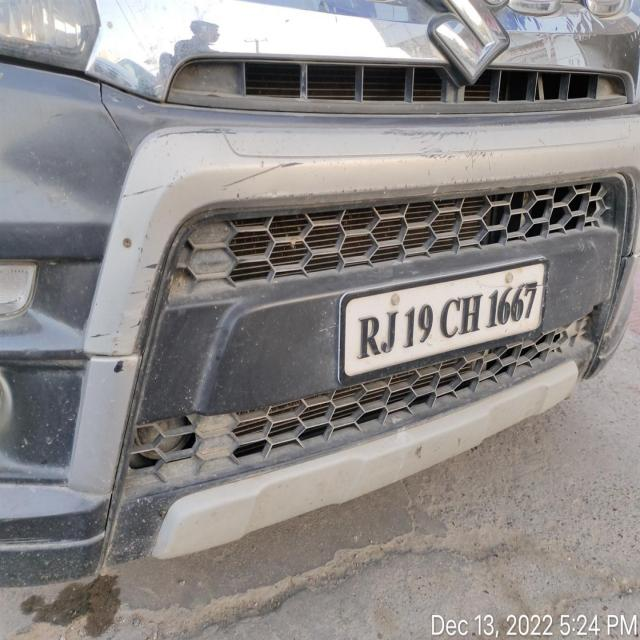damage: (379, 127, 497, 174), (97, 80, 134, 171)
